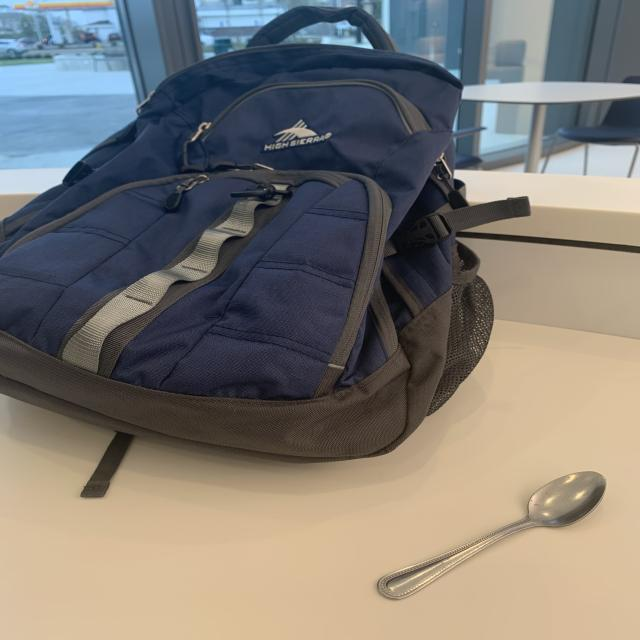Spoon: (369, 466, 613, 605)
